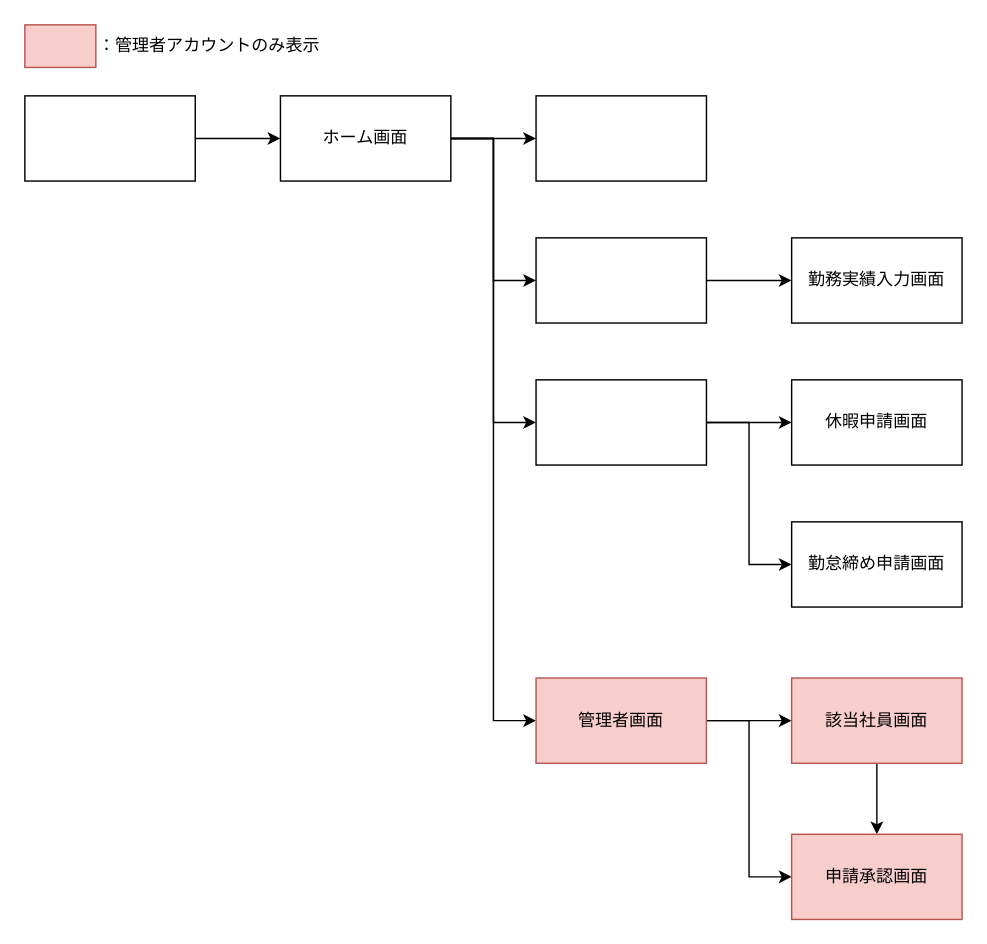
Image size: 987x944. Some labels were removed from this diagram. The centre of each missing label's shape, as x and y in pixels:
ログイン画面: the point at 109,137
勤務実績照会画面: the point at 620,279
打刻画面: the point at 620,137
申請画面: the point at 620,421
